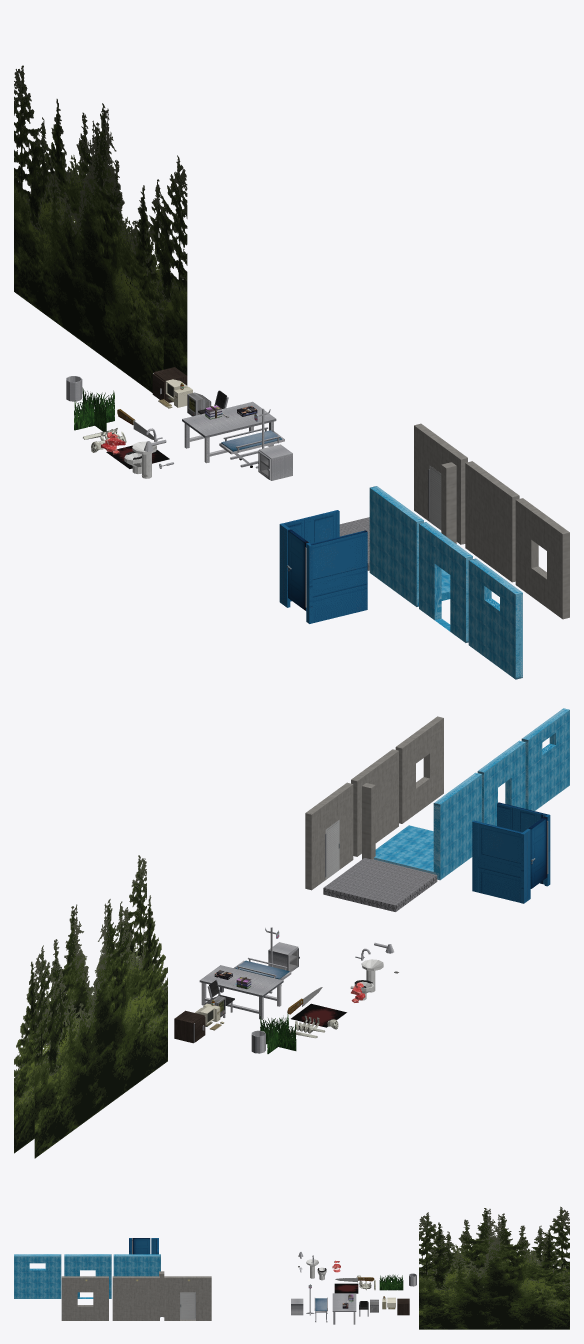
Rendered from itens.fbx.
3 views of the same model, one above another, from view 1: azimuth 30°, elevation 25°; view 2: azimuth 150°, elevation 25°; view 3: azimuth 270°, elevation 25° (orthographic). The views are drawn at different scales.
Visible parts, largest first — view 1: floresta, divisaobanheiro, chaobanheiro.003, paredepapel.002, paredepapel.001, chaobanheiro.001, chaobanheiro.002, paredepapel, mesa, mato, paredepapel.004, maca (+1 smaller); view 2: floresta, divisaobanheiro, chaometal, chaobanheiro.001, chaobanheiro.003, paredepapel.002, paredepapel, paredepapel.001, chaobanheiro.002, chaobanheiro, mesa, paredepapel.004 (+6 smaller); view 3: floresta, paredepapel.001, chaobanheiro.003, paredepapel.002, paredepapel, chaobanheiro.002, chaobanheiro.001, divisaobanheiro, mesa, paredepapel.003, mato, sangue (+4 smaller).
Part boxes in pixels (left/top/right/bottom): floresta: left=14, top=65, right=187, bottom=392; divisaobanheiro: left=279, top=510, right=367, bottom=623; chaobanheiro.003: left=468, top=558, right=522, bottom=679; paredepapel.002: left=515, top=498, right=569, bottom=619; paredepapel.001: left=465, top=461, right=519, bottom=582; chaobanheiro.001: left=369, top=486, right=423, bottom=606; chaobanheiro.002: left=419, top=522, right=472, bottom=642; paredepapel: left=414, top=423, right=467, bottom=544; mesa: left=182, top=401, right=276, bottom=463; mato: left=74, top=387, right=114, bottom=431; paredepapel.004: left=441, top=462, right=456, bottom=543; maca: left=219, top=427, right=284, bottom=467; floresta: left=14, top=855, right=167, bottom=1158; divisaobanheiro: left=472, top=802, right=550, bottom=903; chaometal: left=323, top=858, right=437, bottom=911; chaobanheiro.001: left=433, top=772, right=481, bottom=880; chaobanheiro.003: left=521, top=708, right=569, bottom=810; paredepapel.002: left=395, top=716, right=443, bottom=823; paredepapel: left=305, top=782, right=353, bottom=890; paredepapel.001: left=351, top=749, right=398, bottom=856; chaobanheiro.002: left=477, top=740, right=525, bottom=825; chaobanheiro: left=374, top=825, right=439, bottom=879; mesa: left=199, top=965, right=283, bottom=1019; paredepapel.004: left=362, top=783, right=375, bottom=859; floresta: left=419, top=1206, right=569, bottom=1329; paredepapel.001: left=112, top=1276, right=159, bottom=1320; chaobanheiro.003: left=14, top=1254, right=61, bottom=1298; paredepapel.002: left=61, top=1276, right=108, bottom=1320; paredepapel: left=164, top=1276, right=211, bottom=1320; chaobanheiro.002: left=64, top=1254, right=111, bottom=1298; chaobanheiro.001: left=113, top=1254, right=160, bottom=1276; divisaobanheiro: left=129, top=1238, right=158, bottom=1254; mesa: left=332, top=1293, right=356, bottom=1324; paredepapel.003: left=180, top=1292, right=195, bottom=1319; mato: left=379, top=1274, right=403, bottom=1290; sangue: left=334, top=1283, right=358, bottom=1293.
Size of the model in its own units: 957 by 1277 by 4701.
